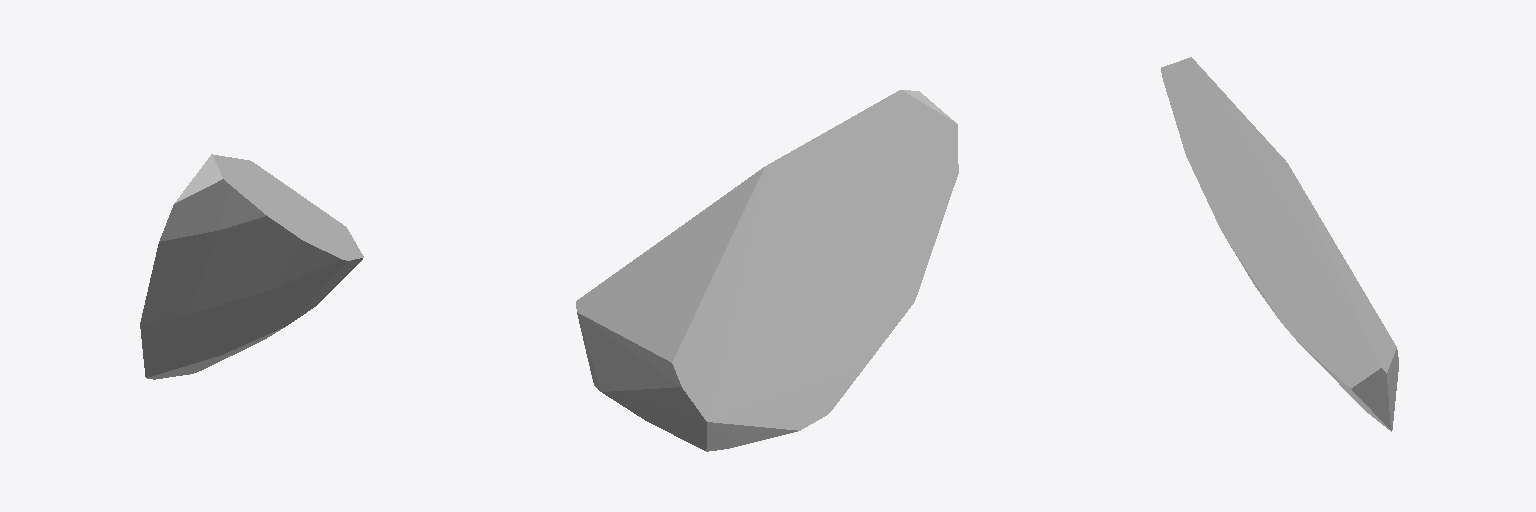
File: Sphere_Cell_Fracture37.obj
3 views of the same model, side by side, from view 1: azimuth 30°, elevation 25°; view 2: azimuth 150°, elevation 25°; view 3: azimuth 270°, elevation 25° (orthographic).
Bounding box in the file's own units: 0.4809 × 0.4978 × 0.3459.